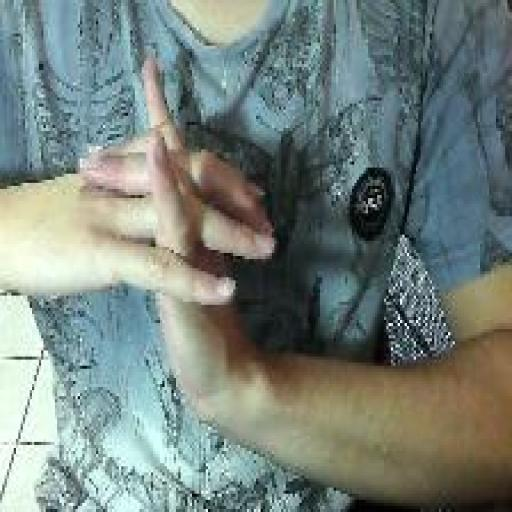Ushi -ox-: (75, 54, 279, 444)
